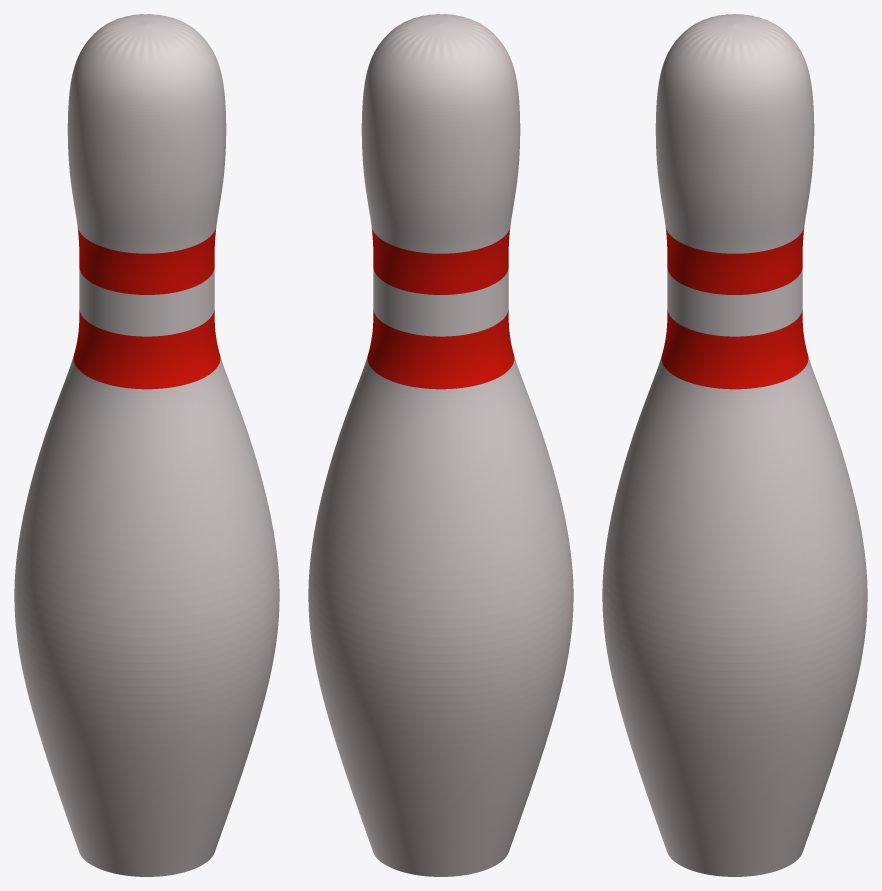
Rendered from Pin.fbx.
3 views of the same model, side by side, from view 1: azimuth 30°, elevation 25°; view 2: azimuth 150°, elevation 25°; view 3: azimuth 270°, elevation 25° (orthographic).
Visible parts, largest first — view 1: 円; view 2: 円; view 3: 円.
Part boxes in pixels (x1=…): 円: x1=14, y1=14, x2=279, y2=876; 円: x1=308, y1=14, x2=573, y2=876; 円: x1=602, y1=14, x2=867, y2=876.
Size of the model in its own units: 11.11 by 38.08 by 11.11.
